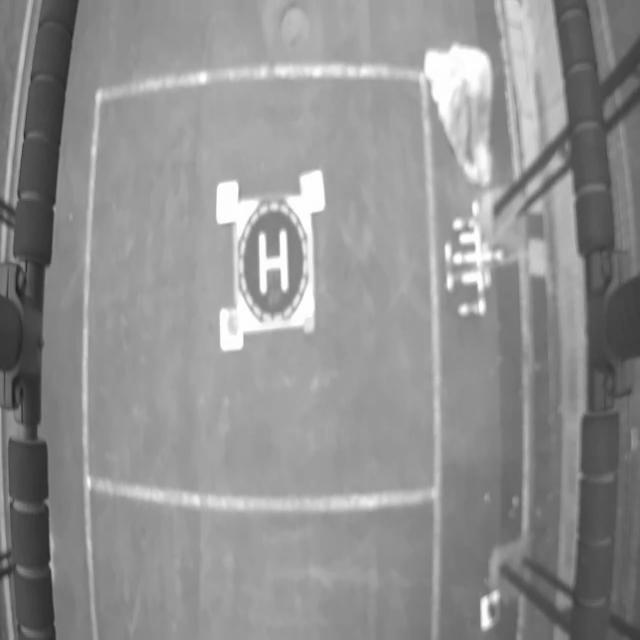Helipad: (258, 230, 289, 294)
